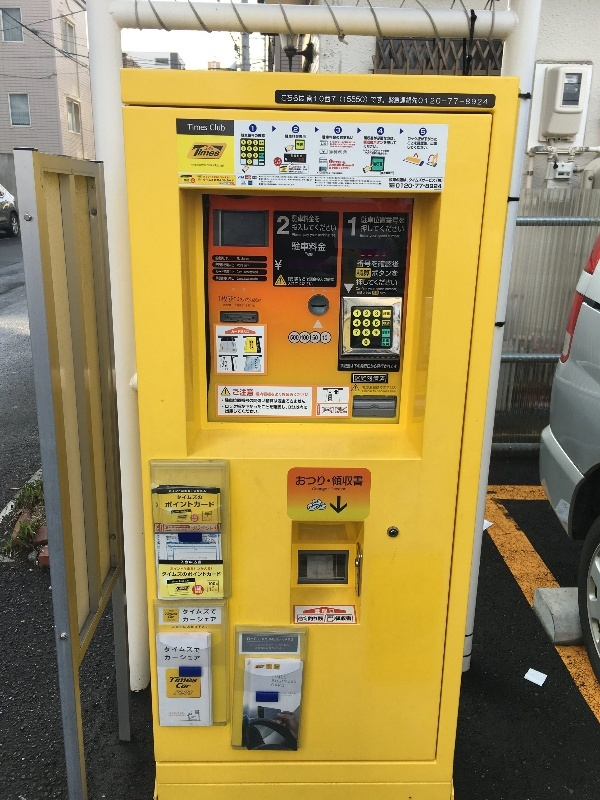text: (177, 542, 192, 560), (193, 542, 208, 560), (277, 216, 288, 235), (209, 145, 224, 157), (369, 94, 385, 105), (227, 338, 240, 351), (289, 94, 304, 105), (305, 94, 320, 105), (321, 94, 336, 105), (337, 94, 352, 105), (353, 94, 368, 105), (337, 159, 352, 170), (337, 476, 352, 487), (167, 542, 176, 560), (195, 145, 208, 157), (275, 259, 288, 271), (401, 97, 416, 107), (417, 97, 432, 107), (433, 97, 448, 107), (449, 97, 464, 107), (465, 97, 480, 107), (305, 242, 320, 252), (225, 360, 240, 370), (305, 476, 320, 486), (177, 510, 189, 522), (369, 216, 384, 225), (385, 216, 400, 225), (209, 542, 216, 560), (337, 141, 352, 149), (305, 215, 320, 223), (305, 224, 320, 232), (321, 224, 336, 232), (292, 242, 304, 252), (369, 225, 384, 233), (385, 225, 400, 233), (369, 260, 384, 268), (247, 338, 256, 351), (385, 260, 399, 268), (389, 97, 400, 107), (353, 476, 363, 487), (289, 166, 304, 173), (369, 279, 384, 286), (225, 296, 240, 303), (233, 337, 240, 352), (177, 677, 192, 684), (241, 389, 254, 397), (195, 586, 208, 594), (181, 175, 192, 184), (193, 124, 207, 131), (210, 124, 224, 131), (292, 215, 304, 223), (292, 224, 304, 232), (369, 375, 385, 381), (275, 159, 288, 166), (385, 270, 398, 277), (401, 183, 416, 189), (417, 183, 432, 189), (289, 276, 304, 282), (305, 276, 320, 282), (247, 360, 256, 370), (353, 363, 368, 369), (369, 363, 384, 369), (257, 392, 272, 398), (273, 392, 288, 398), (289, 392, 304, 398), (225, 398, 240, 404), (241, 398, 256, 404), (257, 398, 272, 404), (273, 398, 288, 404), (289, 398, 304, 404), (177, 495, 192, 501), (177, 502, 192, 508), (193, 502, 208, 508), (177, 586, 192, 592), (193, 609, 208, 615), (193, 617, 208, 623), (177, 647, 192, 653), (177, 655, 192, 661), (177, 683, 192, 689), (177, 690, 192, 696), (321, 476, 330, 486), (337, 616, 352, 622), (357, 260, 368, 268), (372, 270, 384, 277), (385, 279, 397, 286), (481, 97, 489, 107), (296, 476, 304, 486), (321, 276, 334, 282), (291, 335, 304, 341), (323, 335, 336, 341), (355, 375, 368, 381), (329, 159, 336, 170), (357, 270, 368, 277), (357, 279, 368, 286), (329, 391, 336, 402), (348, 217, 352, 236), (193, 163, 208, 168), (209, 163, 224, 168), (337, 135, 352, 140), (369, 136, 384, 141), (369, 140, 384, 145), (417, 137, 432, 142), (417, 178, 432, 183), (305, 252, 320, 257), (241, 298, 256, 303), (369, 385, 384, 390), (225, 404, 240, 409), (241, 404, 256, 409), (257, 404, 272, 409), (289, 405, 304, 410), (225, 409, 240, 414), (241, 409, 256, 414), (177, 489, 192, 494), (193, 526, 208, 531), (177, 572, 192, 577), (193, 572, 208, 577), (273, 679, 288, 684), (385, 363, 397, 369), (308, 616, 320, 622), (322, 167, 336, 172), (273, 404, 287, 409), (162, 572, 176, 577), (321, 609, 335, 614), (273, 675, 287, 680), (282, 94, 288, 105), (197, 175, 208, 181), (421, 129, 432, 135), (341, 363, 352, 369), (165, 647, 176, 653), (165, 655, 176, 661), (323, 135, 336, 140), (355, 330, 368, 335), (193, 625, 209, 629), (241, 134, 256, 138), (294, 127, 304, 133), (289, 135, 304, 139), (321, 142, 336, 146), (385, 140, 397, 145), (369, 152, 384, 156), (417, 145, 429, 150), (241, 181, 256, 185), (273, 176, 288, 180), (289, 176, 304, 180), (273, 178, 288, 182), (289, 178, 304, 182), (321, 179, 336, 183), (337, 179, 352, 183), (353, 179, 368, 183), (241, 257, 256, 261), (289, 282, 304, 286), (250, 340, 256, 350), (356, 311, 368, 316), (385, 385, 397, 390), (193, 495, 203, 501), (166, 502, 176, 508), (177, 567, 192, 571), (209, 572, 221, 577), (209, 582, 224, 586), (209, 588, 224, 592), (177, 625, 192, 629), (257, 647, 272, 651), (353, 217, 356, 236), (369, 179, 383, 183), (361, 225, 368, 233), (233, 389, 240, 397), (194, 489, 208, 493), (373, 162, 384, 167), (389, 178, 400, 183), (181, 560, 192, 565), (273, 683, 284, 688), (433, 183, 442, 189), (362, 216, 368, 225), (183, 609, 192, 615), (183, 617, 192, 623), (291, 154, 304, 158), (259, 176, 272, 180), (259, 178, 272, 182), (252, 357, 256, 370), (339, 407, 352, 411), (275, 665, 288, 669), (385, 136, 395, 141), (433, 178, 443, 183), (225, 276, 235, 281), (321, 242, 326, 252), (212, 147, 224, 151), (330, 141, 336, 149), (417, 142, 429, 146), (244, 264, 256, 268), (244, 277, 256, 281), (292, 233, 304, 237), (388, 235, 400, 239), (356, 287, 368, 291), (312, 335, 320, 341), (356, 321, 368, 325), (324, 408, 336, 412), (212, 588, 224, 592), (273, 644, 289, 647), (209, 179, 224, 182), (321, 172, 336, 175), (369, 145, 378, 150), (369, 150, 384, 153), (273, 184, 288, 187), (321, 177, 336, 180), (337, 177, 352, 180), (321, 182, 336, 185), (337, 182, 352, 185), (353, 182, 368, 185), (321, 184, 336, 187), (375, 321, 384, 326), (209, 513, 224, 516), (209, 535, 224, 538), (167, 536, 176, 541), (193, 560, 202, 565), (257, 644, 272, 647), (261, 180, 272, 184), (177, 525, 188, 529), (197, 567, 208, 571), (332, 476, 336, 487), (261, 638, 272, 642), (273, 647, 284, 651), (322, 150, 336, 153), (337, 184, 351, 187), (370, 235, 384, 238), (386, 288, 400, 291), (218, 296, 224, 303), (242, 304, 256, 307), (338, 411, 352, 414), (209, 609, 216, 615), (209, 617, 216, 623), (193, 647, 200, 653), (193, 655, 200, 661), (170, 677, 176, 684), (408, 137, 416, 142), (408, 145, 416, 150), (246, 176, 256, 180), (248, 181, 256, 186), (216, 256, 224, 261), (225, 263, 235, 267), (225, 270, 235, 274), (216, 276, 224, 281), (390, 390, 400, 394), (166, 612, 176, 616), (177, 712, 185, 717), (289, 679, 297, 684), (243, 141, 256, 144), (243, 148, 256, 151), (243, 154, 256, 157), (259, 154, 272, 157), (259, 161, 272, 164), (259, 184, 272, 187), (369, 182, 382, 185), (243, 271, 256, 274), (177, 528, 190, 531), (179, 580, 192, 583), (260, 148, 272, 151), (321, 234, 330, 238), (231, 330, 240, 334), (375, 312, 384, 316), (375, 331, 384, 335), (337, 488, 346, 492), (247, 637, 256, 641), (187, 124, 192, 131), (401, 178, 408, 183), (409, 178, 416, 183), (169, 489, 176, 494), (193, 515, 198, 522), (209, 526, 216, 531), (193, 677, 198, 684), (169, 712, 176, 717), (209, 176, 220, 179), (353, 159, 356, 170), (357, 291, 368, 294), (373, 292, 384, 295), (373, 390, 384, 393), (257, 134, 265, 138), (408, 142, 416, 146), (305, 176, 313, 180), (305, 178, 313, 182), (216, 263, 224, 267), (216, 270, 224, 274), (305, 282, 313, 286), (248, 304, 256, 308), (241, 330, 249, 334), (168, 525, 176, 529), (273, 638, 281, 642), (257, 665, 265, 669), (379, 129, 384, 135), (310, 234, 320, 237), (209, 502, 214, 508), (166, 529, 176, 532), (202, 537, 208, 542), (297, 143, 304, 147), (337, 127, 341, 134), (361, 234, 368, 238), (377, 389, 384, 393), (209, 538, 216, 542), (185, 579, 192, 583), (313, 488, 320, 492), (225, 179, 234, 182), (401, 216, 404, 225), (279, 694, 288, 697), (433, 137, 438, 142), (363, 385, 368, 390), (315, 609, 320, 614), (267, 664, 272, 669), (260, 142, 272, 144), (353, 141, 356, 149), (340, 152, 352, 154), (344, 151, 352, 154), (385, 172, 393, 175), (396, 183, 400, 189), (401, 225, 404, 233), (376, 288, 384, 291), (225, 303, 231, 307), (305, 335, 309, 341), (362, 389, 368, 393), (305, 392, 309, 398), (216, 583, 224, 586), (321, 488, 327, 492), (257, 358, 259, 369), (249, 141, 256, 144), (249, 148, 256, 151), (249, 154, 256, 157), (249, 161, 256, 164), (305, 166, 308, 173), (233, 304, 240, 307), (281, 692, 288, 695), (289, 692, 296, 695), (252, 126, 256, 131), (299, 158, 304, 162), (364, 136, 368, 141), (364, 140, 368, 145), (364, 145, 368, 150), (433, 142, 438, 146), (315, 179, 320, 183), (225, 256, 229, 261), (331, 234, 336, 238), (257, 298, 261, 303), (246, 305, 256, 307), (385, 312, 390, 316), (385, 321, 390, 325), (385, 331, 390, 335), (385, 389, 390, 393), (171, 567, 176, 571), (331, 488, 336, 492), (283, 638, 288, 642), (289, 216, 290, 235), (225, 183, 234, 185), (337, 172, 343, 175), (289, 184, 295, 187), (250, 277, 256, 280), (378, 235, 384, 238), (369, 288, 375, 291), (301, 335, 304, 341), (305, 398, 308, 404), (318, 406, 320, 415), (321, 616, 324, 622), (241, 176, 245, 180), (252, 277, 256, 281), (380, 291, 384, 295), (385, 339, 389, 343), (385, 342, 389, 346), (204, 512, 208, 516), (204, 516, 208, 520), (204, 538, 208, 542), (209, 567, 213, 571), (172, 580, 176, 584), (168, 616, 176, 618), (172, 625, 176, 629), (289, 638, 293, 642), (209, 146, 212, 151), (315, 177, 320, 180), (315, 182, 320, 185), (363, 292, 368, 295), (235, 304, 240, 307), (365, 330, 368, 335), (365, 340, 368, 345), (305, 405, 308, 410), (257, 409, 260, 414), (251, 644, 256, 647), (204, 176, 208, 179), (204, 179, 208, 182), (285, 135, 288, 139), (285, 158, 288, 162), (330, 151, 336, 153), (321, 161, 327, 163), (385, 150, 389, 153), (365, 152, 368, 156), (385, 152, 388, 156), (253, 176, 256, 180), (316, 184, 320, 187), (237, 257, 240, 261), (237, 263, 240, 267), (241, 263, 244, 267), (237, 270, 240, 274), (237, 277, 240, 281), (241, 277, 244, 281), (305, 234, 309, 237), (365, 321, 368, 325), (369, 389, 372, 393), (175, 510, 176, 522), (255, 358, 256, 369), (206, 146, 208, 151), (225, 177, 230, 179), (223, 360, 224, 370), (317, 172, 320, 175), (381, 172, 384, 175), (289, 694, 292, 697), (193, 179, 195, 183), (238, 176, 240, 180), (241, 270, 243, 274), (318, 234, 320, 238), (366, 312, 368, 316), (382, 331, 384, 335), (193, 567, 195, 571), (177, 580, 179, 584), (257, 637, 259, 641), (369, 270, 370, 277), (221, 177, 224, 179), (221, 183, 224, 185), (366, 150, 368, 153), (353, 177, 355, 180), (385, 235, 387, 238), (369, 292, 371, 295), (209, 517, 211, 520), (174, 528, 176, 531), (193, 690, 194, 696), (335, 616, 336, 622), (191, 163, 192, 168), (353, 135, 354, 140), (305, 135, 306, 139), (431, 142, 432, 146), (273, 180, 274, 184), (257, 277, 258, 281), (385, 291, 386, 295), (383, 312, 384, 316), (383, 321, 384, 325), (383, 339, 384, 343), (383, 342, 384, 346), (177, 612, 178, 616), (255, 141, 256, 144), (255, 148, 256, 151), (255, 154, 256, 157), (257, 271, 258, 274), (207, 517, 208, 520), (335, 152, 336, 154)
